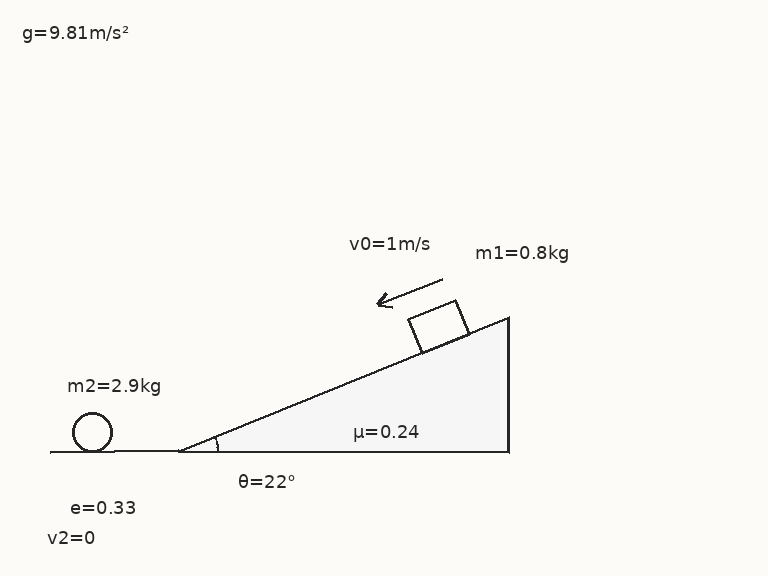ball: (70, 410, 114, 454)
block: (406, 298, 471, 355)
ramp: (176, 316, 511, 454)
